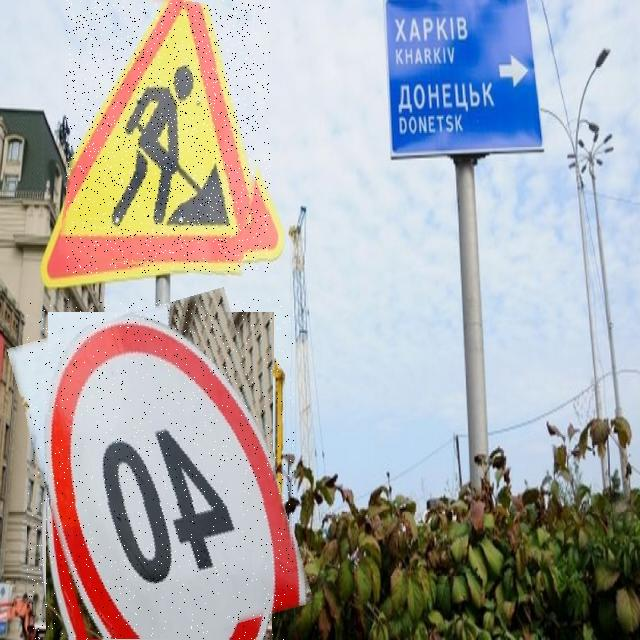roadwork: (66, 0, 270, 273)
speed limit 40: (27, 299, 294, 640)
